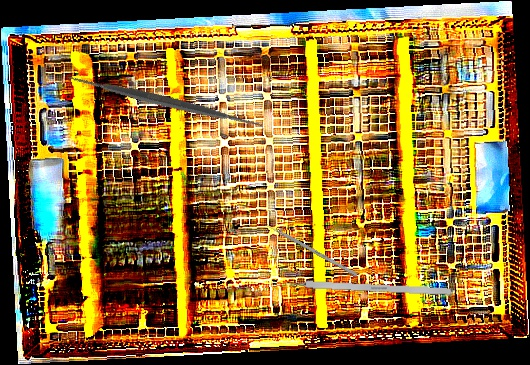Hook Surgical: (270, 278, 452, 296)
Pusher: (258, 219, 358, 277)
Spatula Surgical: (63, 1, 268, 203)
